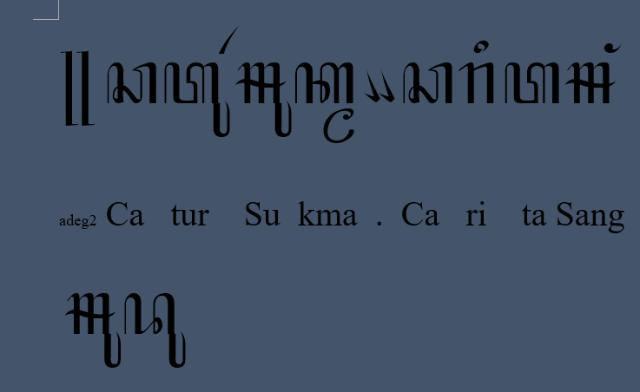S: (563, 61, 617, 105)
Su: (235, 62, 293, 138), (64, 293, 122, 369)
_m: (323, 106, 355, 144)
_r1: (218, 26, 240, 54)
adeg2: (60, 49, 94, 126)
c: (402, 62, 454, 104), (106, 62, 156, 104)
du: (124, 293, 186, 369)
i: (472, 39, 490, 55)
k: (295, 61, 355, 105)
kom: (362, 67, 382, 103), (379, 67, 395, 103)
ng: (604, 42, 622, 54)
r: (458, 61, 494, 105)
t: (504, 61, 560, 107)
tu: (163, 62, 231, 138)
